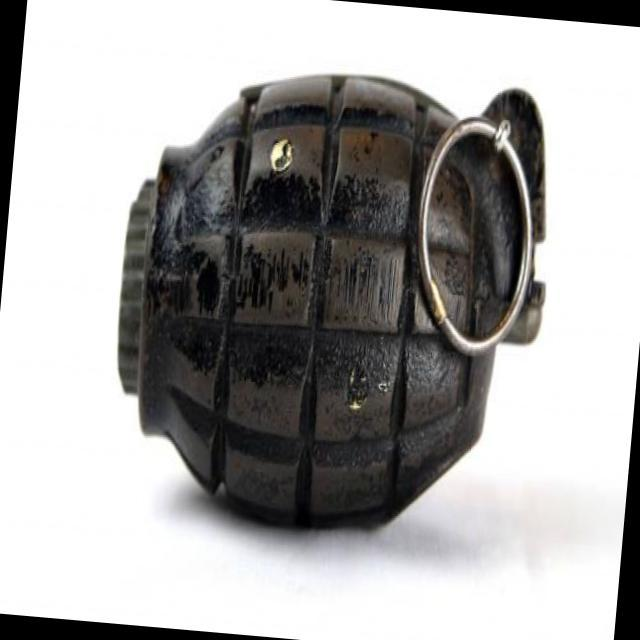grenade: (94, 49, 566, 550)
